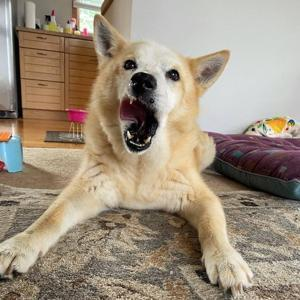nasal_discharge: (125, 75, 140, 100)
